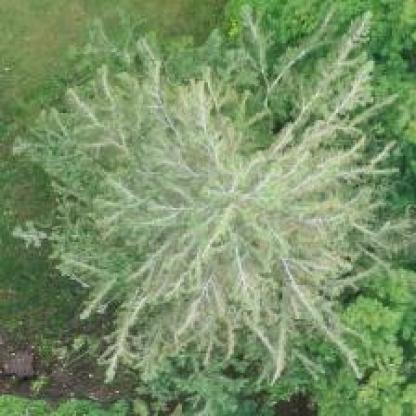Coniferous Tree: (7, 47, 389, 366)
